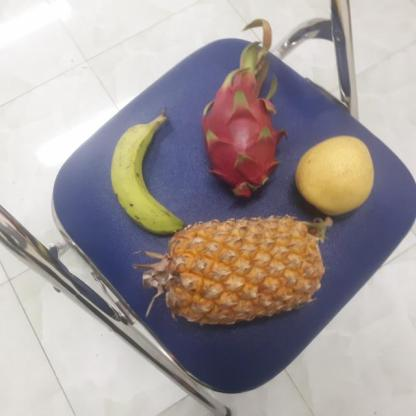banana: (109, 114, 181, 233)
pear: (293, 130, 378, 214)
pineapple: (153, 215, 323, 323)
pitaya: (198, 63, 284, 194)
